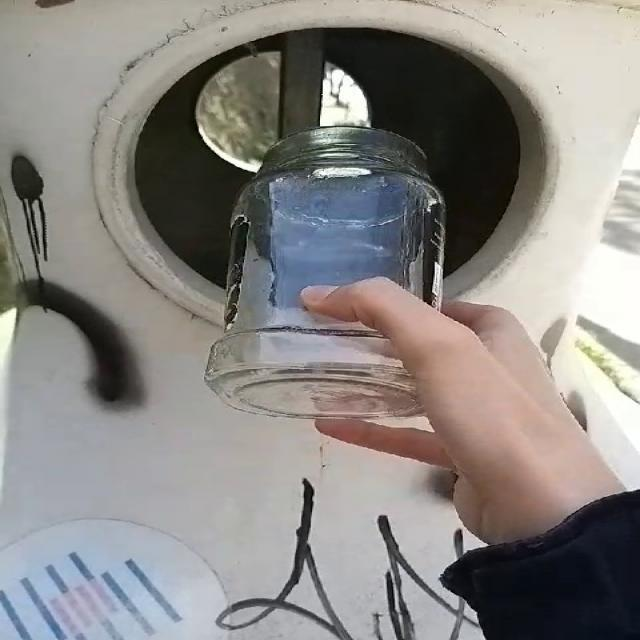glass: (207, 126, 444, 419)
